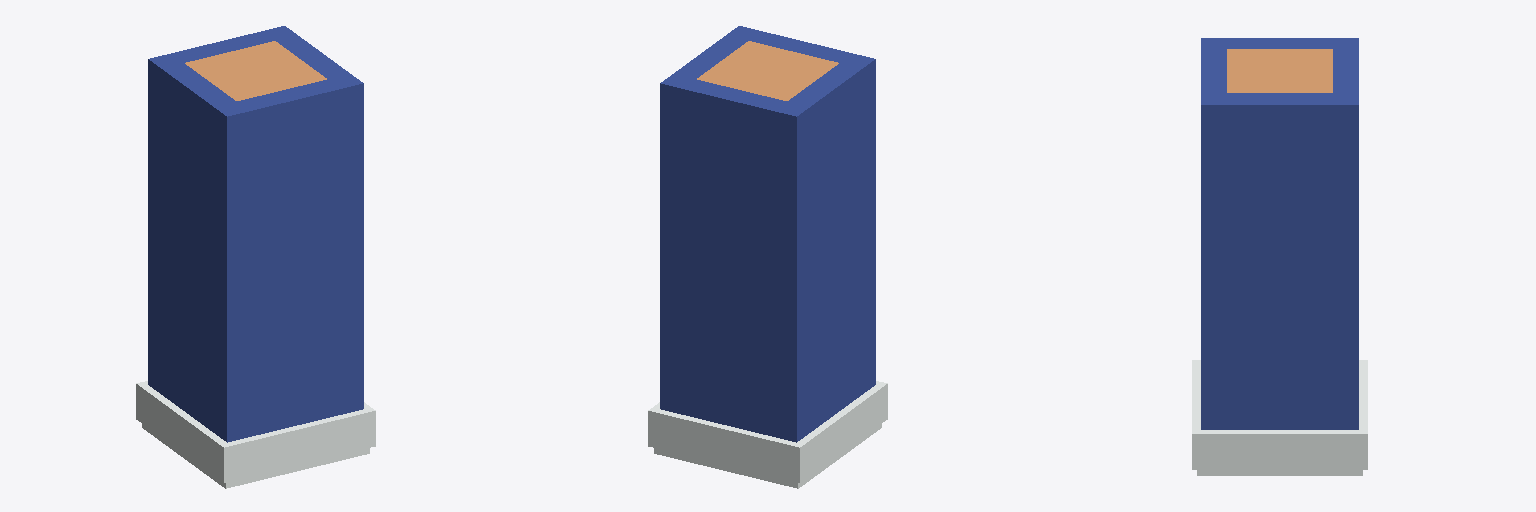
The picture shows the model from 3 angles: view 1: azimuth 30°, elevation 25°; view 2: azimuth 150°, elevation 25°; view 3: azimuth 270°, elevation 25°; orthographic projection.
Visible parts, largest first — view 1: object 1; view 2: object 1; view 3: object 1.
Part boxes in pixels (left/top/right/bottom): object 1: left=136, top=26, right=375, bottom=488; object 1: left=648, top=26, right=887, bottom=488; object 1: left=1192, top=38, right=1367, bottom=475.
Bounding box in the file's own units: 4 × 9.3 × 4.
Materials: 1 (1 with a texture image).